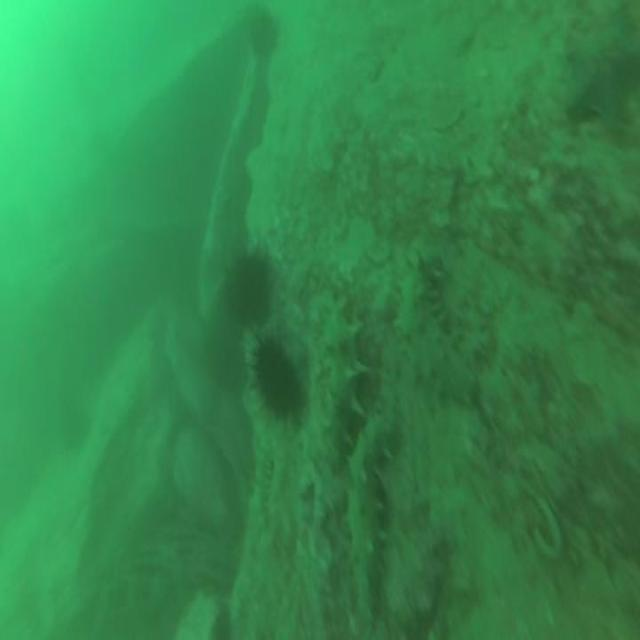echinus: (252, 340, 302, 417), (228, 261, 273, 330), (249, 10, 280, 60)
scallop: (352, 414, 403, 624), (397, 272, 475, 406), (313, 292, 363, 455)
